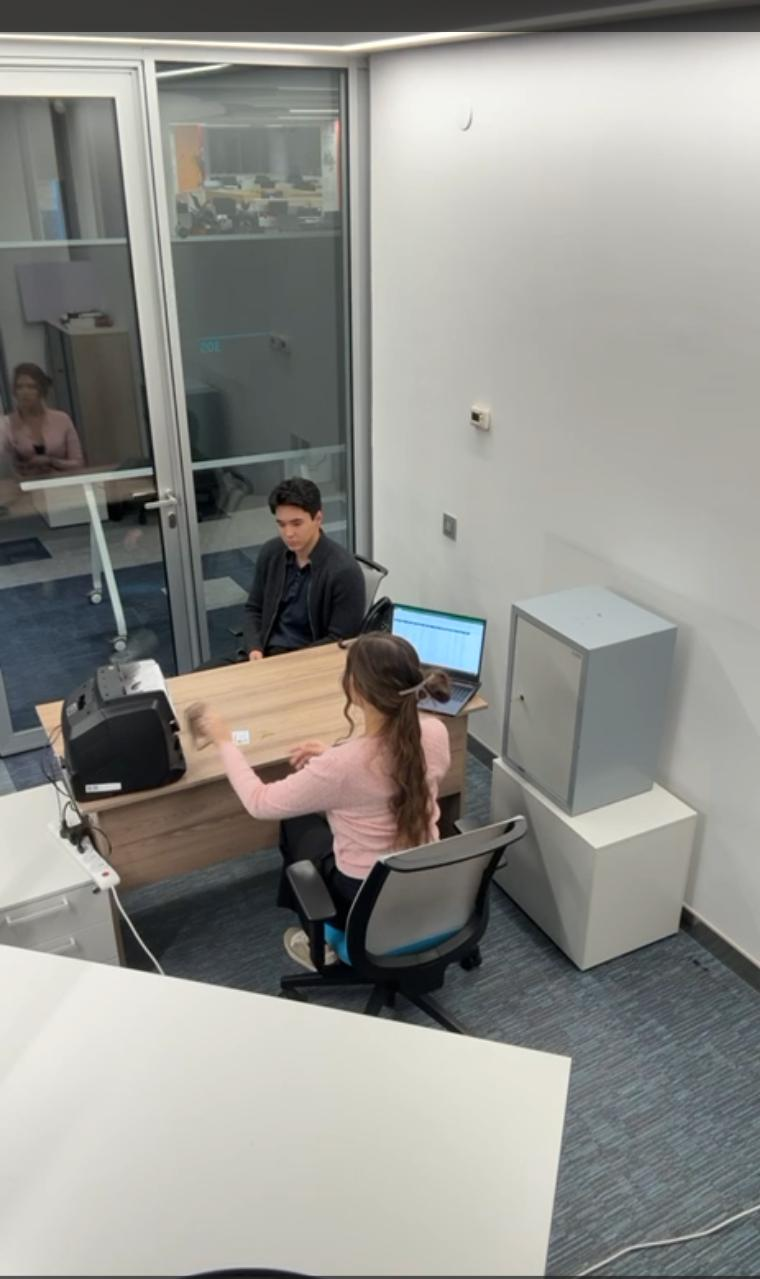cash_stack: (186, 706, 207, 750)
counter: (48, 654, 186, 802)
screen_on: (392, 610, 479, 671)
